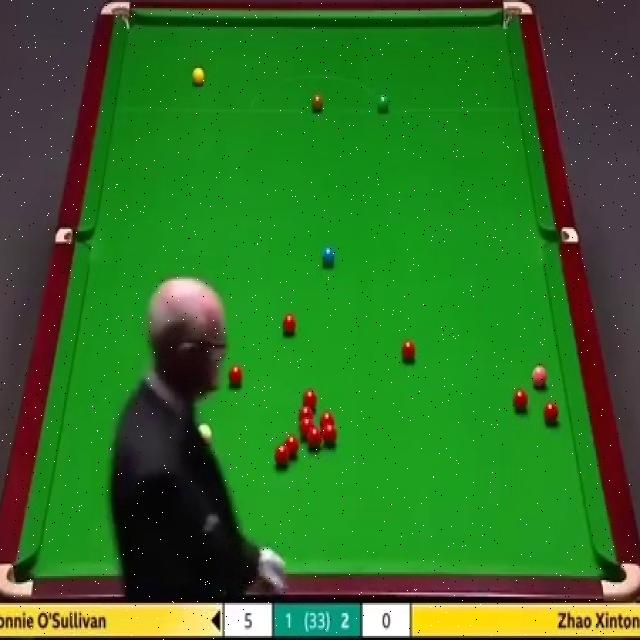blue-ball: (321, 244, 336, 266)
brown-ball: (311, 92, 324, 114)
green-ball: (377, 95, 389, 112)
pink-ball: (532, 363, 548, 390)
red-ball: (227, 363, 244, 391), (284, 437, 302, 462), (274, 444, 290, 470), (543, 402, 561, 425), (514, 389, 531, 413), (322, 424, 338, 448), (282, 314, 298, 337), (402, 338, 416, 364), (308, 426, 322, 450), (301, 389, 318, 406), (300, 419, 314, 438), (298, 405, 313, 421), (320, 414, 334, 427)
white-ball: (196, 420, 212, 446)
yellow-ball: (192, 68, 206, 88)
